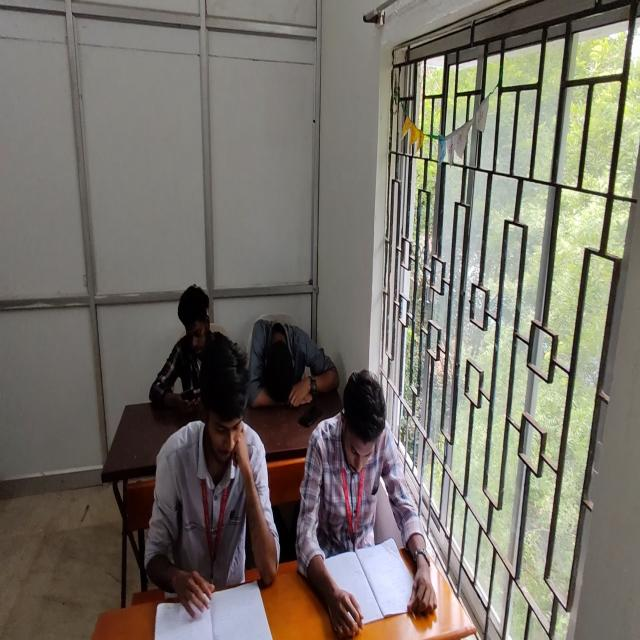reading: (145, 331, 282, 624), (305, 368, 423, 636)
sleeping: (246, 318, 336, 410)
using_mobile: (149, 282, 229, 412)
